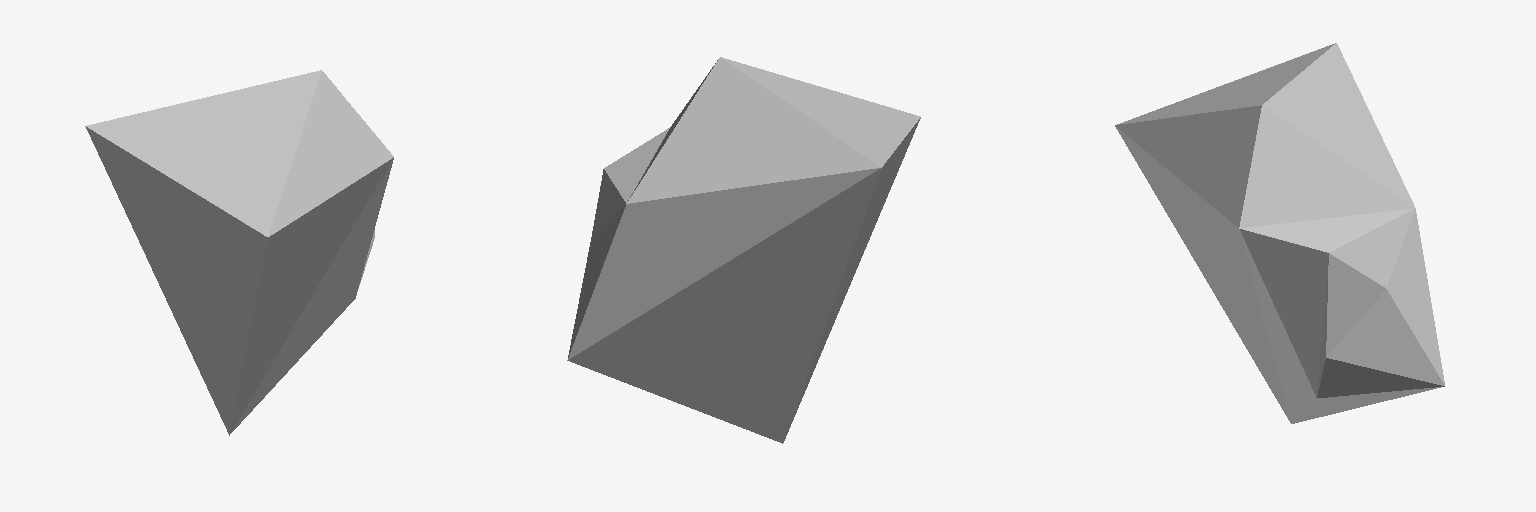
Rendered from projectile.obj.
The picture shows the model from 3 angles: view 1: azimuth 30°, elevation 25°; view 2: azimuth 150°, elevation 25°; view 3: azimuth 270°, elevation 25°; orthographic projection.
Parts seen in each view (by area): view 1: projectile_1:initialShadingGroup projectile_1:pSphere1 projectil; view 2: projectile_1:initialShadingGroup projectile_1:pSphere1 projectil; view 3: projectile_1:initialShadingGroup projectile_1:pSphere1 projectil.
Part boxes in pixels (bbox=[...]): projectile_1:initialShadingGroup projectile_1:pSphere1 projectil: bbox=[85, 70, 393, 435]; projectile_1:initialShadingGroup projectile_1:pSphere1 projectil: bbox=[567, 57, 920, 443]; projectile_1:initialShadingGroup projectile_1:pSphere1 projectil: bbox=[1115, 43, 1444, 423].
Size of the model in its own units: 0.501 by 0.6008 by 0.504.